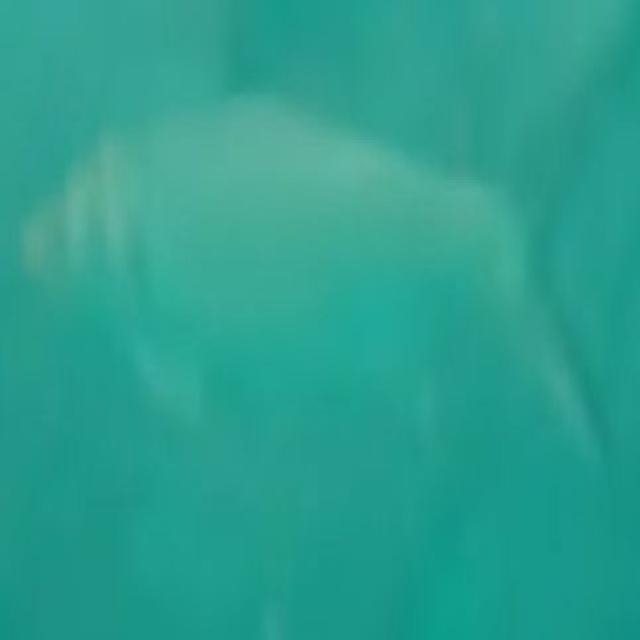Bangus: (19, 77, 592, 486)
